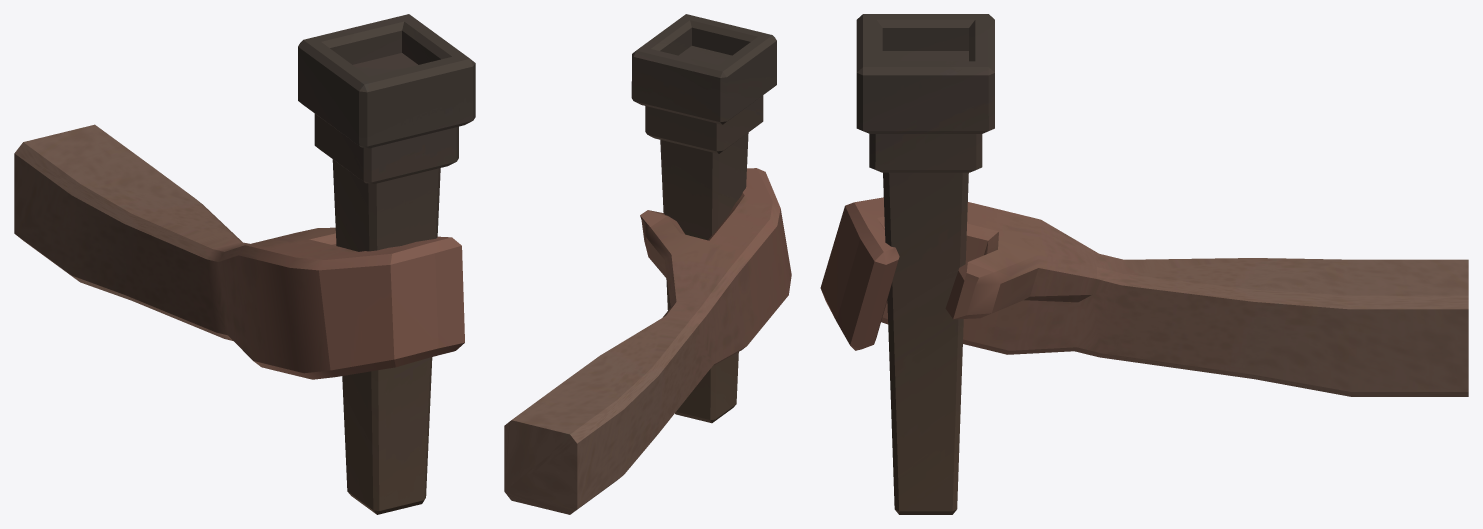
File: hand_torch.fbx
3 views of the same model, side by side, from view 1: azimuth 30°, elevation 25°; view 2: azimuth 150°, elevation 25°; view 3: azimuth 270°, elevation 25° (orthographic). The views are drawn at different scales.
Parts seen in each view (by area): view 1: hand1, torch1; view 2: hand1, torch1; view 3: hand1, torch1.
Part boxes in pixels (box(x1,y1,x2,y2)): hand1: box(14, 124, 464, 379); torch1: box(298, 14, 475, 514); hand1: box(504, 168, 791, 514); torch1: box(631, 14, 776, 423); hand1: box(820, 197, 1468, 396); torch1: box(856, 14, 994, 514).
Size of the model in its own units: 201 by 521 by 661.
1 material, 1 textured.
